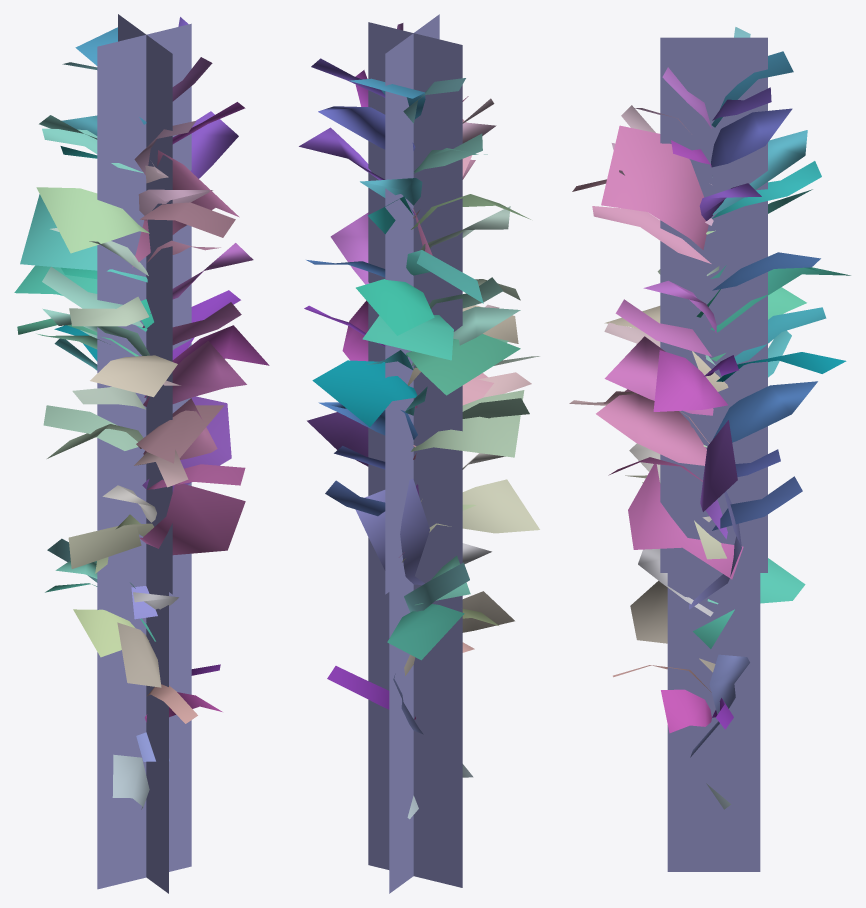
The picture shows the model from 3 angles, left to right: view 1: azimuth 30°, elevation 25°; view 2: azimuth 150°, elevation 25°; view 3: azimuth 270°, elevation 25°; orthographic projection.
Parts seen in each view (by area): view 1: SM_BS_Kelp_8m_HD; view 2: SM_BS_Kelp_8m_HD; view 3: SM_BS_Kelp_8m_HD.
Boxes of the visible parts, x1,y1,x2,y2 form: SM_BS_Kelp_8m_HD: (14, 14, 269, 893); SM_BS_Kelp_8m_HD: (299, 14, 539, 893); SM_BS_Kelp_8m_HD: (569, 27, 850, 871).
Size of the model in its own units: 88.96 by 78.16 by 290.
